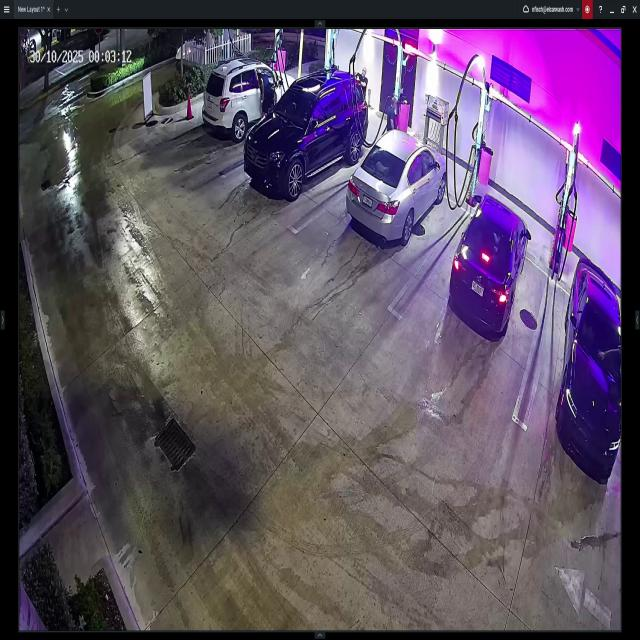Car: (245, 69, 368, 200), (557, 260, 623, 470), (448, 189, 530, 339), (348, 133, 448, 245), (209, 62, 297, 141)
